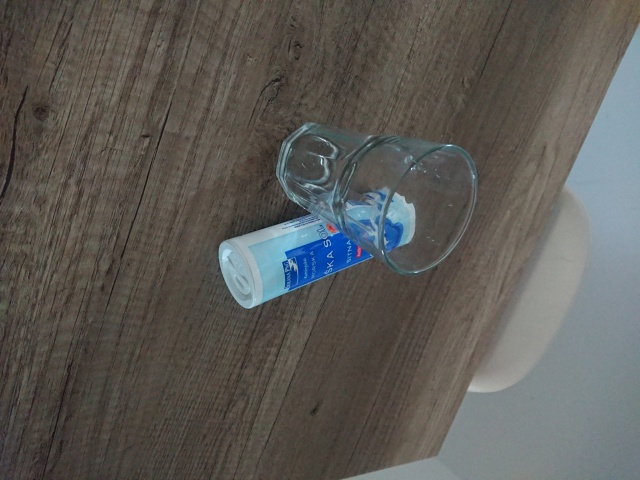Solana Pag Fine Sea Salt 250g: (214, 179, 419, 314)
